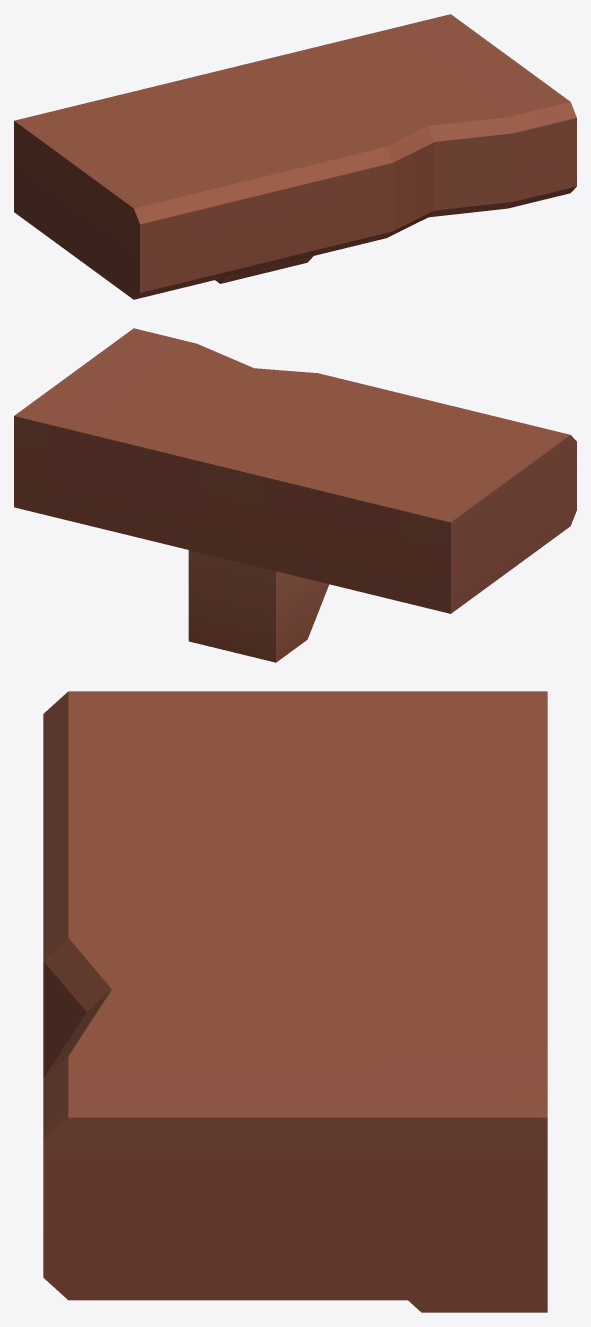
The model's file is shelf_small.glb.
The picture shows the model from 3 angles, top to bottom: view 1: azimuth 30°, elevation 25°; view 2: azimuth 150°, elevation 25°; view 3: azimuth 270°, elevation 25°; orthographic projection. The views are drawn at different scales.
Parts seen in each view (by area): view 1: shelf_small; view 2: shelf_small; view 3: shelf_small.
Part boxes in pixels (x1,y1,x2,y2): shelf_small: (14,14,576,299); shelf_small: (14,328,576,662); shelf_small: (43,691,547,1312).
Size of the model in its own units: 1 by 0.3999 by 0.5001.
Materials: 1 (1 with a texture image).
